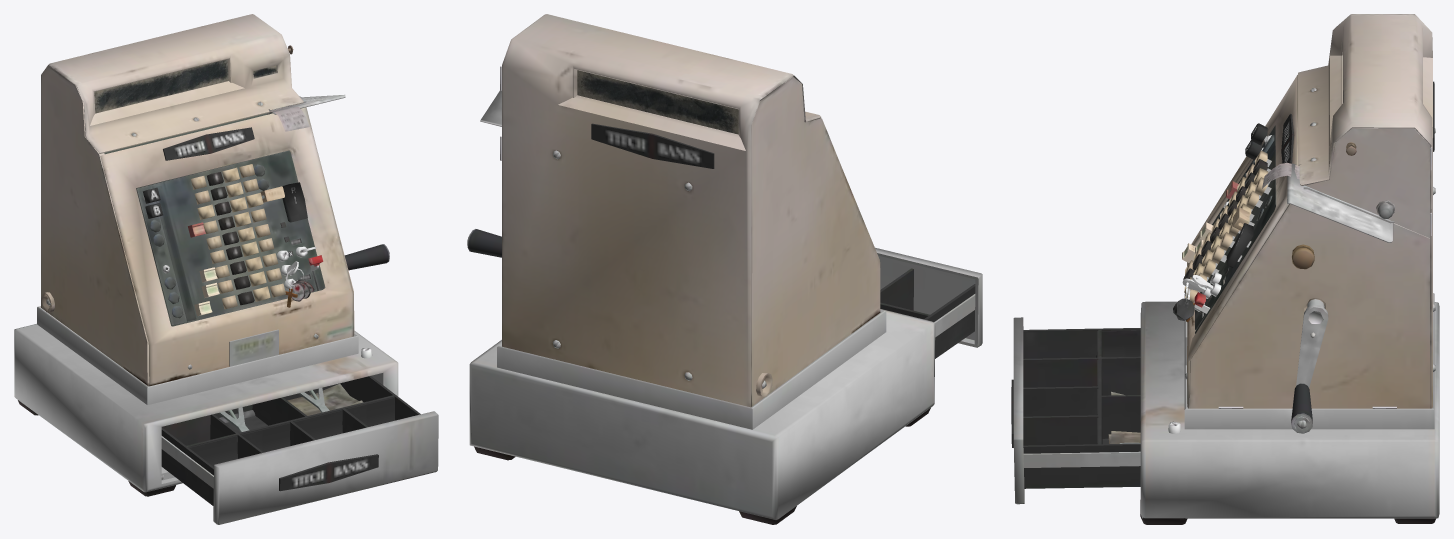
The model's file is CashRegister_01.glb.
3 views of the same model, side by side, from view 1: azimuth 30°, elevation 25°; view 2: azimuth 150°, elevation 25°; view 3: azimuth 270°, elevation 25° (orthographic). The views are drawn at different scales.
Visible parts, largest first — view 1: CashRegister_01_body; view 2: CashRegister_01_body; view 3: CashRegister_01_body.
Boxes of the visible parts, x1,y1,x2,y2 form: CashRegister_01_body: [14, 14, 438, 524]; CashRegister_01_body: [467, 14, 982, 524]; CashRegister_01_body: [1011, 14, 1439, 524].
Bounding box in the file's own units: 0.6005 × 0.6212 × 0.6242.
Materials: 2 (2 with a texture image).
